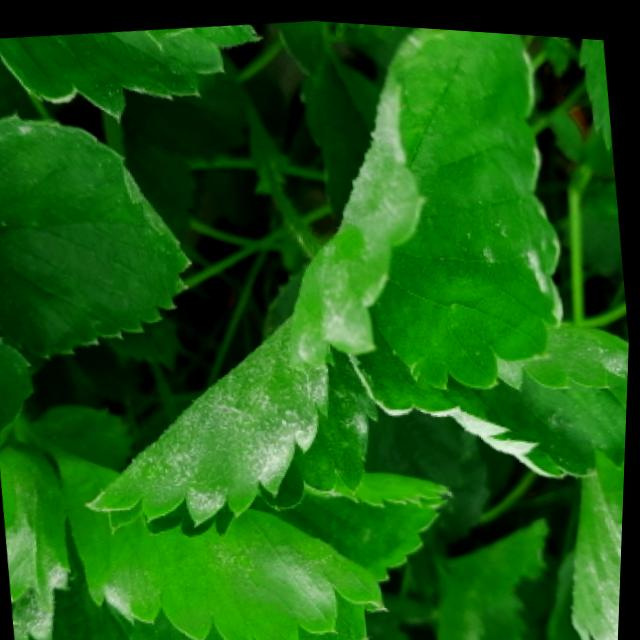Powdery Mildew Leaf: (291, 21, 570, 385), (83, 307, 381, 535), (54, 442, 391, 640), (343, 311, 631, 469), (0, 440, 74, 635), (18, 532, 151, 640), (573, 450, 628, 639)
